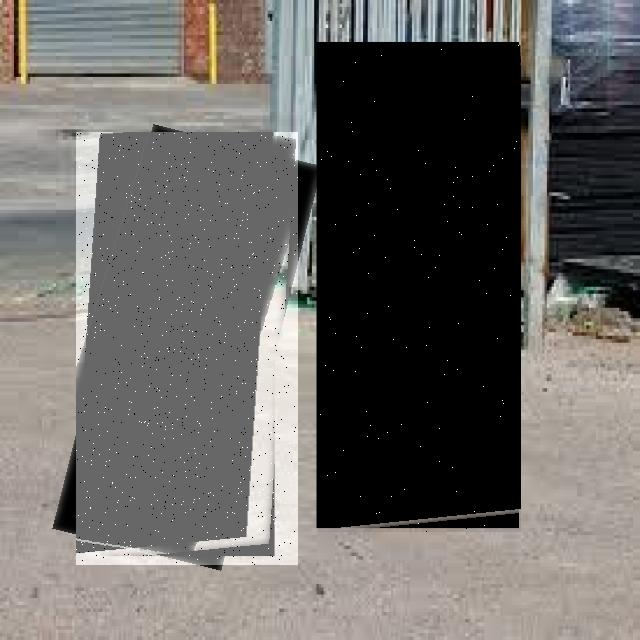Traffic-cone: (318, 45, 521, 532), (76, 132, 298, 565)
